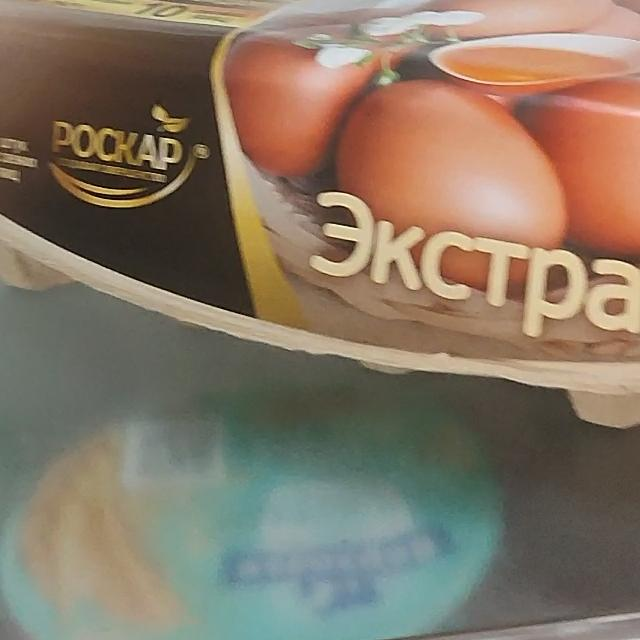egg: (0, 0, 640, 449)
